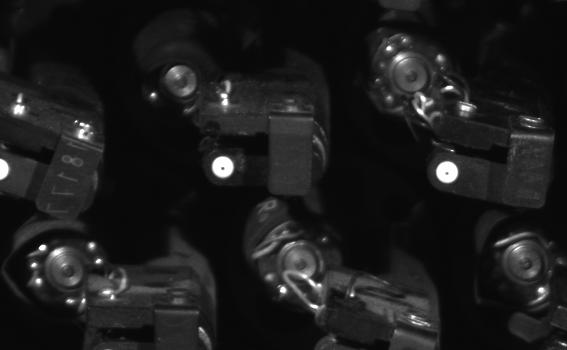fiber: (208, 152, 237, 183), (432, 158, 463, 187)
